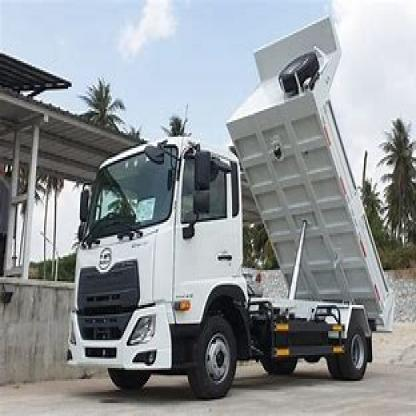dump_truck: (57, 9, 395, 403)
